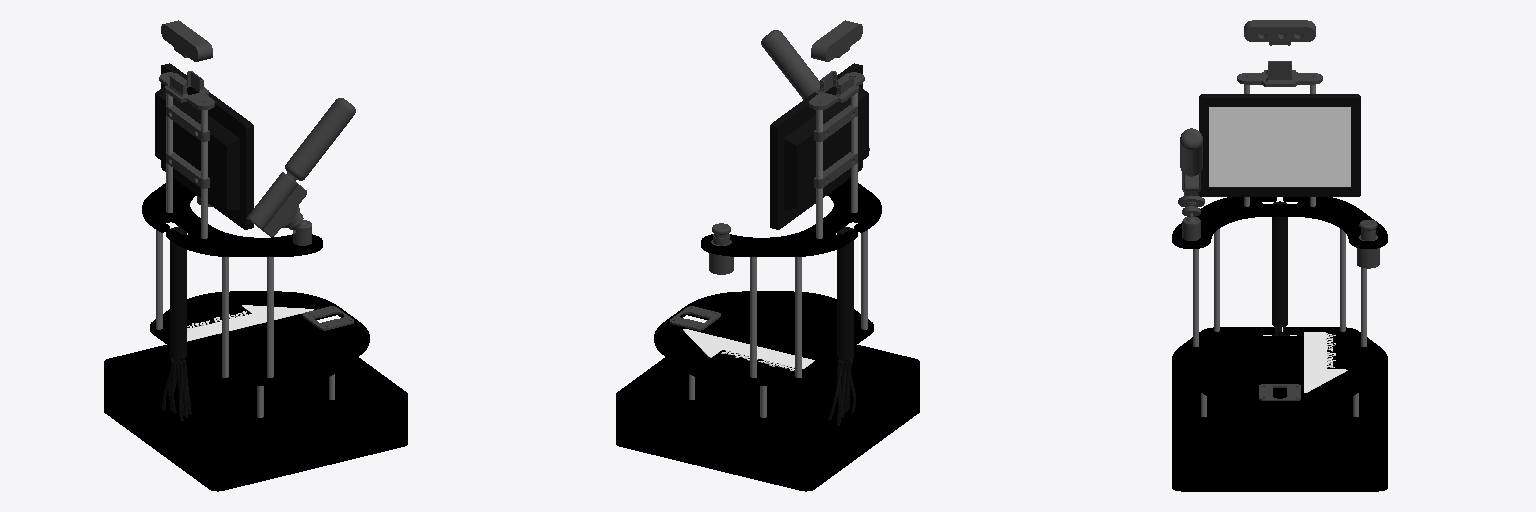
--- Facts derived from the render (not from the file) ---
The picture shows the robot from 3 angles, left to right: view 1: azimuth 30°, elevation 25°; view 2: azimuth 150°, elevation 25°; view 3: azimuth 270°, elevation 25°; orthographic projection.
Robot: jupiter2_lite — 69 links, 68 joints (7 revolute, 2 continuous, 59 fixed); root link base_footprint; default pose: all joints at 0.
Visible links, largest first — view 1: base_link, plate_1_link, monitor_link, mic_link, plate_3_link, pipe_200_link, arrow_link, camera_link, head_mount_link, cables_link, pole_200_2_link, pole_200_3_link (+4 smaller); view 2: base_link, plate_1_link, monitor_link, plate_3_link, pipe_200_link, mic_link, arrow_link, camera_link, head_mount_link, cables_link, estop_link, pole_200_0_link (+5 smaller); view 3: base_link, plate_1_link, screen_link, monitor_link, plate_3_link, mic_link, pipe_200_link, arrow_link, camera_link, head_mount_link, estop_link, pole_200_1_link (+3 smaller).
Boxes of the visible links, x1,y1,x2,y2 form: base_link: (104, 345, 407, 491); plate_1_link: (150, 291, 369, 385); monitor_link: (155, 63, 253, 229); mic_link: (247, 98, 355, 245); plate_3_link: (142, 178, 322, 256); pipe_200_link: (170, 227, 186, 359); arrow_link: (187, 305, 313, 341); camera_link: (161, 20, 212, 61); head_mount_link: (159, 71, 214, 109); cables_link: (162, 358, 191, 420); pole_200_2_link: (222, 257, 228, 377); pole_200_3_link: (267, 257, 273, 377); base_link: (616, 345, 919, 491); plate_1_link: (654, 291, 873, 385); monitor_link: (770, 63, 868, 229); plate_3_link: (701, 178, 881, 256); pipe_200_link: (837, 227, 853, 359); mic_link: (761, 30, 869, 150); arrow_link: (683, 329, 814, 370); camera_link: (811, 20, 862, 61); head_mount_link: (809, 71, 864, 109); cables_link: (828, 358, 855, 425); estop_link: (709, 223, 733, 274); pole_200_0_link: (750, 257, 756, 377); base_link: (1172, 367, 1387, 491); plate_1_link: (1172, 327, 1387, 406); screen_link: (1209, 107, 1350, 186); monitor_link: (1199, 94, 1360, 196); plate_3_link: (1172, 197, 1387, 248); mic_link: (1178, 128, 1204, 240); pipe_200_link: (1272, 201, 1287, 326); arrow_link: (1304, 332, 1347, 392); camera_link: (1244, 20, 1315, 45); head_mount_link: (1237, 61, 1322, 86); estop_link: (1357, 220, 1379, 268); pole_200_1_link: (1340, 229, 1345, 331).
Size in the robot's own frame: 0.331 by 0.33 by 0.67 metres.
31 mesh visuals loaded from 32 distinct referenced files (19 binary STL); not drawn: 28 (reference not matched to a file when rendering).

URDF robot description (jupiter2_lite):
<?xml version="1.0" ?>
<!-- =================================================================================== -->
<!-- |    This document was autogenerated by xacro from [local-path]/catkin_ws/src/jupiterobot2/jupiterobot2_description/urdf/jupiter2_lite.urdf.xacro | -->
<!-- |    EDITING THIS FILE BY HAND IS NOT RECOMMENDED                                 | -->
<!-- =================================================================================== -->
<robot name="jupiter2_lite">
    <!-- Init colour -->
    <material name="Black">
        <color rgba="0.0 0.0 0.0 1.0" />
    </material>
    <material name="FlatBlack">
        <color rgba="0.1 0.1 0.1 1.0" />
    </material>
    <material name="DarkGrey">
        <color rgba="0.3 0.3 0.3 1.0" />
    </material>
    <material name="Grey">
        <color rgba="0.5 0.5 0.5 1.0" />
    </material>
    <material name="Red">
        <color rgba="0.8 0.0 0.0 1.0" />
    </material>
    <material name="Green">
        <color rgba="0.0 0.8 0.0 1.0" />
    </material>
    <material name="Blue">
        <color rgba="0.0 0.0 0.8 1.0" />
    </material>
    <material name="White">
        <color rgba="1.0 1.0 1.0 1.0" />
    </material>
    <gazebo reference="base_link">
        <material>Gazebo/Black</material>
        <plugin name="gazebo_ros_control">
            <robotNamespace>/</robotNamespace>
        </plugin>
    </gazebo>
    <gazebo reference="wheel_left_link">
        <mu1>1</mu1>
        <mu2>1</mu2>
        <kp>1e6</kp>
        <kd>1e3</kd>
        <minDepth>0.001</minDepth>
        <maxVel>1</maxVel>
        <material>Gazebo/FlatBlack</material>
    </gazebo>
    <gazebo reference="wheel_right_link">
        <mu1>1</mu1>
        <mu2>1</mu2>
        <kp>1e6</kp>
        <kd>1e3</kd>
        <minDepth>0.001</minDepth>
        <maxVel>1</maxVel>
        <material>Gazebo/FlatBlack</material>
    </gazebo>
    <gazebo reference="caster_back_right_link">
        <mu1>0.01</mu1>
        <mu2>0.01</mu2>
        <kp>1e6</kp>
        <kd>1e3</kd>
        <minDepth>0.001</minDepth>
        <maxVel>1</maxVel>
        <material>Gazebo/Grey</material>
    </gazebo>
    <gazebo reference="caster_back_left_link">
        <mu1>0.01</mu1>
        <mu2>0.01</mu2>
        <kp>1e6</kp>
        <kd>1e3</kd>
        <minDepth>0.001</minDepth>
        <maxVel>1</maxVel>
        <material>Gazebo/Grey</material>
    </gazebo>
    <gazebo reference="imu_link">
        <sensor name="imu" type="imu">
            <always_on>true</always_on>
            <visualize>false</visualize>
        </sensor>
        <material>Gazebo/Grey</material>
    </gazebo>
    <gazebo reference="plate_1_link">
        <material>Gazebo/Black</material>
    </gazebo>
    <gazebo reference="plate_2_link">
        <material>Gazebo/Black</material>
    </gazebo>
    <gazebo reference="plate_3_link">
        <material>Gazebo/Black</material>
    </gazebo>
    <gazebo reference="arrow_link">
        <material>Gazebo/White</material>
    </gazebo>
    <gazebo reference="mic_link">
        <material>Gazebo/DarkGrey</material>
    </gazebo>
    <gazebo reference="estop_link">
        <material>Gazebo/DarkGrey</material>
    </gazebo>
    <gazebo reference="monitor_frame_1_link">
        <material>Gazebo/DarkGrey</material>
    </gazebo>
    <gazebo reference="monitor_frame_2_link">
        <material>Gazebo/DarkGrey</material>
    </gazebo>
    <gazebo reference="monitor_link">
        <material>Gazebo/FlatBlack</material>
    </gazebo>
    <gazebo reference="screen_link">
        <material>Gazebo/WhiteGlow</material>
    </gazebo>
    <gazebo reference="arm_mount_link">
        <material>Gazebo/DarkGrey</material>
    </gazebo>
    <gazebo reference="head_mount_link">
        <material>Gazebo/DarkGrey</material>
    </gazebo>
    <gazebo reference="pipe_200_link">
        <material>Gazebo/BlackTransparent</material>
    </gazebo>
    <gazebo reference="pipe_300_link">
        <material>Gazebo/BlackTransparent</material>
    </gazebo>
    <gazebo reference="cables_link">
        <material>Gazebo/BlackTransparent</material>
    </gazebo>
    <gazebo>
        <plugin filename="libgazebo_ros_diff_drive.so" name="jupiter2_controller">
            <commandTopic>cmd_vel</commandTopic>
            <odometryTopic>odom</odometryTopic>
            <odometryFrame>odom</odometryFrame>
            <odometrySource>world</odometrySource>
            <publishOdomTF>true</publishOdomTF>
            <robotBaseFrame>base_footprint</robotBaseFrame>
            <publishWheelTF>false</publishWheelTF>
            <publishTf>true</publishTf>
            <publishWheelJointState>true</publishWheelJointState>
            <legacyMode>false</legacyMode>
            <updateRate>30</updateRate>
            <leftJoint>wheel_left_joint</leftJoint>
            <rightJoint>wheel_right_joint</rightJoint>
            <wheelSeparation>0.287</wheelSeparation>
            <wheelDiameter>0.066</wheelDiameter>
            <wheelAcceleration>1</wheelAcceleration>
            <wheelTorque>10</wheelTorque>
            <rosDebugLevel>na</rosDebugLevel>
        </plugin>
    </gazebo>
    <gazebo>
        <plugin filename="libgazebo_ros_imu.so" name="imu_plugin">
            <alwaysOn>true</alwaysOn>
            <bodyName>imu_link</bodyName>
            <frameName>imu_link</frameName>
            <topicName>imu</topicName>
            <serviceName>imu_service</serviceName>
            <gaussianNoise>0.0</gaussianNoise>
            <updateRate>0</updateRate>
            <imu>
                <noise>
                    <type>gaussian</type>
                    <rate>
                        <mean>0.0</mean>
                        <stddev>2e-4</stddev>
                        <bias_mean>0.0000075</bias_mean>
                        <bias_stddev>0.0000008</bias_stddev>
                    </rate>
                    <accel>
                        <mean>0.0</mean>
                        <stddev>1.7e-2</stddev>
                        <bias_mean>0.1</bias_mean>
                        <bias_stddev>0.001</bias_stddev>
                    </accel>
                </noise>
            </imu>
        </plugin>
    </gazebo>
    <gazebo reference="base_scan">
        <material>Gazebo/FlatBlack</material>
        <sensor name="rplidar_a1_sensor" type="ray">
            <pose>0 0 0 0 0 0</pose>
            <visualize>false</visualize>
            <update_rate>5.5</update_rate>
            <ray>
                <scan>
                    <horizontal>
                        <samples>360</samples>
                        <resolution>1</resolution>
                        <min_angle>-3.14159265359</min_angle>
                        <max_angle>3.14159265359</max_angle>
                    </horizontal>
                </scan>
                <range>
                    <min>0.18</min>
                    <max>6.0</max>
                    <resolution>0.01</resolution>
                </range>
                <noise>
                    <type>gaussian</type>
                    <mean>0.0</mean>
                    <stddev>0.01</stddev>
                </noise>
            </ray>
            <plugin filename="libgazebo_ros_laser.so" name="gazebo_ros_rplidar_a1_controller">
                <topicName>scan</topicName>
                <frameName>base_scan</frameName>
            </plugin>
        </sensor>
    </gazebo>
    <gazebo reference="camera_link">
        <sensor name="camera" type="depth">
            <always_on>true</always_on>
            <visualize>false</visualize>
            <update_rate>20.0</update_rate>
            <camera>
                <horizontal_fov>1.0472</horizontal_fov>
                <image>
                    <width>640</width>
                    <height>480</height>
                    <format>R8G8B8</format>
                </image>
                <depth_camera />
                <clip>
                    <near>0.05</near>
                    <far>8.0</far>
                </clip>
            </camera>
            <plugin filename="libgazebo_ros_openni_kinect.so" name="camera_controller">
                <baseline>0.1</baseline>
                <alwaysOn>true</alwaysOn>
                <updateRate>20.0</updateRate>
                <cameraName>camera</cameraName>
                <frameName>camera_depth_optical_frame</frameName>
                <imageTopicName>color/image_raw</imageTopicName>
                <depthImageTopicName>depth/image_raw</depthImageTopicName>
                <pointCloudTopicName>depth/points</pointCloudTopicName>
                <cameraInfoTopicName>color/camera_info</cameraInfoTopicName>
                <depthImageCameraInfoTopicName>depth/camera_info</depthImageCameraInfoTopicName>
                <pointCloudCutoff>0.4</pointCloudCutoff>
                <hackBaseline>0.07</hackBaseline>
                <distortionK1>0.0</distortionK1>
                <distortionK2>0.0</distortionK2>
                <distortionK3>0.0</distortionK3>
                <distortionT1>0.0</distortionT1>
                <distortionT2>0.0</distortionT2>
                <CxPrime>0.0</CxPrime>
                <Cx>0.0</Cx>
                <Cy>0.0</Cy>
                <focalLength>0</focalLength>
                <hackBaseline>0</hackBaseline>
            </plugin>
        </sensor>
    </gazebo>
    <joint name="head_base_joint" type="fixed">
        <origin xyz="0.0 0.0 0.076" />
        <parent link="head_mount_link" />
        <child link="head_base_link" />
    </joint>
    <link name="head_base_link" />
    <joint name="head_servo_joint" type="fixed">
        <origin rpy="0 0 0" xyz="0 0 -0.041499999999999995" />
        <parent link="head_base_link" />
        <child link="head_servo_link" />
    </joint>
    <link name="head_servo_link">
        <visual>
            <origin rpy="0 0 0" xyz="0 0 0" />
            <geometry>
                <mesh filename="package://jupiterobot2_head_description/meshes/ax12_box.stl" scale="0.001 0.001 0.001" />
            </geometry>
            <material name="Black" />
        </visual>
        <collision>
            <origin rpy="0 0 0" xyz="0.0 0.0 -0.01241" />
            <geometry>
                <box size="0.025 0.038 0.04762" />
            </geometry>
        </collision>
        <inertial>
            <origin xyz="0 0 0" rpy="0 0 0" />
            <mass value="0.055" />
            <inertia ixx="0.000017012" ixy="0.0" ixz="0.0" iyy="0.000013258" iyz="0.0" izz="0.000009483" />
        </inertial>
    </link>
    <gazebo reference="head_servo_link">
        <material>Gazebo/Black</material>
        <selfCollide>true</selfCollide>
        <gravity>true</gravity>
    </gazebo>
    <joint name="head_joint" type="revolute">
        <origin rpy="0 0 0" xyz="0 0 0" />
        <axis xyz="0 1 0" />
        <limit effort="30" lower="-1.5" upper="1.5" velocity="1.571" />
        <dynamics friction="0.13" />
        <parent link="head_servo_link" />
        <child link="head_link" />
    </joint>
    <link name="head_link">
        <visual>
            <origin rpy="0 0 0" xyz="0 0 0" />
            <geometry>
                <mesh filename="package://jupiterobot2_head_description/meshes/F2.stl" scale="0.001 0.001 0.001" />
            </geometry>
            <material name="White" />
        </visual>
        <collision>
            <origin rpy="0 0 0" xyz="0.0 0.0 0.00775" />
            <geometry>
                <box size="0.025 0.0485 0.0375" />
            </geometry>
        </collision>
        <inertial>
            <origin xyz="0 0 0.015" rpy="0 0 0" />
            <!--0.025*0.048*0.0375-->
            <mass value="0.0115" />
            <inertia ixx="3.55565625e-06" ixy="0.0" ixz="0.0" iyy="1.946614583e-06" iyz="0.0" izz="2.80695833e-06" />
        </inertial>
    </link>
    <gazebo reference="head_link">
        <material>Gazebo/White</material>
        <selfCollide>true</selfCollide>
        <gravity>true</gravity>
    </gazebo>
    <joint name="head_plate_joint" type="fixed">
        <origin rpy="0 3.14159265359 0" xyz="0 0 0.0265" />
        <parent link="head_link" />
        <child link="head_plate_link" />
    </joint>
    <link name="head_plate_link">
        <visual>
            <origin rpy="0 0 0" xyz="0 0 0" />
            <geometry>
                <mesh filename="package://jupiterobot2_head_description/meshes/F3.stl" scale="0.001 0.001 0.001" />
            </geometry>
            <material name="White" />
        </visual>
        <collision>
            <origin rpy="0 0 0" xyz="0.0 0.0 -0.0045" />
            <geometry>
                <box size="0.025 0.038 0.009" />
            </geometry>
        </collision>
        <inertial>
            <origin xyz="0 0 -0.004" rpy="0 0 0" />
            <!--0.025*0.038*0.008-->
            <mass value="0.005" />
            <inertia ixx="6.2833e-07" ixy="0.0" ixz="0.0" iyy="2.870833e-07" iyz="0.0" izz="8.620833e-07" />
        </inertial>
    </link>
    <gazebo reference="head_plate_link">
        <material>Gazebo/White</material>
        <selfCollide>true</selfCollide>
        <gravity>true</gravity>
    </gazebo>
    <joint name="camera_joint" type="fixed">
        <origin rpy="0 3.14159265359 0" xyz="-0.0125 0 -0.0215" />
        <parent link="head_plate_link" />
        <child link="camera_link" />
    </joint>
    <link name="camera_link">
        <visual>
            <origin rpy="0 0 0" xyz="0 0 0" />
            <geometry>
                <mesh filename="package://jupiterobot2_head_description/meshes/camera.stl" scale="0.001 0.001 0.001" />
            </geometry>
            <material name="DarkGrey" />
        </visual>
        <collision>
            <origin rpy="0 0 0" xyz="-0.0125 0 0" />
            <geometry>
                <box size="0.025 0.109 0.025" />
            </geometry>
        </collision>
        <inertial>
            <origin rpy="0 0 0" xyz="-0.0125 0 0" />
            <mass value="0.06" />
            <inertia ixx="6.253e-05" ixy="0.0" ixz="0.0" iyy="6.25e-06" iyz="0.0" izz="6.253e-05" />
        </inertial>
    </link>
    <gazebo reference="camera_link">
        <material>Gazebo/DarkGrey</material>
        <selfCollide>true</selfCollide>
        <gravity>true</gravity>
    </gazebo>
    <joint name="camera_color_joint" type="fixed">
        <origin rpy="0 0 0" xyz="0.0 -0.009 0.0" />
        <parent link="camera_link" />
        <child link="camera_color_frame" />
    </joint>
    <link name="camera_color_frame" />
    <joint name="camera_color_optical_joint" type="fixed">
        <origin rpy="-1.570796326795 0 -1.570796326795" xyz="0 0 0" />
        <parent link="camera_color_frame" />
        <child link="camera_color_optical_frame" />
    </joint>
    <link name="camera_color_optical_frame" />
    <joint name="camera_depth_joint" type="fixed">
        <origin rpy="0 0 0" xyz="0.0 -0.008 0.0" />
        <parent link="camera_link" />
        <child link="camera_depth_frame" />
    </joint>
    <link name="camera_depth_frame" />
    <joint name="camera_depth_optical_joint" type="fixed">
        <origin rpy="-1.570796326795 0 -1.570796326795" xyz="0 0 0" />
        <parent link="camera_depth_frame" />
        <child link="camera_depth_optical_frame" />
    </joint>
    <link name="camera_depth_optical_frame" />
    <transmission name="tran6">
        <type>transmission_interface/SimpleTransmission</type>
        <joint name="head_joint">
            <hardwareInterface>hardware_interface/PositionJointInterface</hardwareInterface>
        </joint>
        <actuator name="motor6">
            <hardwareInterface>hardware_interface/PositionJointInterface</hardwareInterface>
            <mechanicalReduction>1</mechanicalReduction>
        </actuator>
    </transmission>
    <!-- ros_control plugin -->
    <!-- <gazebo>
    <plugin name="gazebo_ros_control" filename="libgazebo_ros_control.so">
      <controlPeriod>0.001</controlPeriod>
      <robotNamespace>/</robotNamespace>
      <robotSimType>gazebo_ros_control/DefaultRobotHWSim</robotSimType>
      <legacyModeNS>true</legacyModeNS>
    </plugin>
  </gazebo> -->
    <!-- As we don't have here a robot base, add a base_link link as its location reference -->
    <!--link name="arm_mount_link"/-->
    <link name="arm_base_link" />
    <joint name="arm_base_joint" type="fixed">
        <origin xyz="0.0 0.0 -0.015" />
        <parent link="arm_mount_link" />
        <child link="arm_base_link" />
    </joint>
    <joint name="arm1_servo_joint" type="fixed">
        <origin rpy="1.570796326795 0 1.570796326795" xyz="0 0 0" />
        <parent link="arm_base_link" />
        <child link="arm1_servo_link" />
    </joint>
    <link name="arm1_servo_link">
        <visual>
            <origin rpy="0 0 0" xyz="0 0 0" />
            <geometry>
                <mesh filename="package://jupiterobot2_arm_description/meshes/ax12_box.stl" scale="0.001 0.001 0.001" />
            </geometry>
            <material name="Black" />
        </visual>
        <collision>
            <origin rpy="0 0 0" xyz="0.0 0.0 -0.01241" />
            <geometry>
                <box size="0.025 0.038 0.04762" />
            </geometry>
        </collision>
        <inertial>
            <origin xyz="0 0 0" rpy="0 0 0" />
            <mass value="0.055" />
            <inertia ixx="0.000017012" ixy="0.0" ixz="0.0" iyy="0.000013258" iyz="0.0" izz="0.000009483" />
        </inertial>
    </link>
    <gazebo reference="arm1_servo_link">
        <material>Gazebo/Black</material>
        <selfCollide>true</selfCollide>
        <gravity>true</gravity>
    </gazebo>
    <joint name="arm1_joint" type="revolute">
        <origin rpy="-1.570796326795 1.570796326795 3.14159265359" xyz="0 0.019 0" />
        <axis xyz="0 0 -1" />
        <limit effort="30" lower="-2.617" upper="2.617" velocity="1.571" />
        <dynamics friction="0.13" />
        <parent link="arm1_servo_link" />
        <child link="arm1_link" />
    </joint>
    <link name="arm1_link">
        <visual>
            <origin rpy="0 0 0" xyz="0 0 0" />
            <geometry>
                <mesh filename="package://jupiterobot2_arm_description/meshes/F3.stl" scale="0.001 0.001 0.001" />
            </geometry>
            <material name="White" />
        </visual>
        <collision>
            <origin rpy="0 0 0" xyz="0.0 0.0 -0.0045" />
            <geometry>
                <box size="0.025 0.038 0.009" />
            </geometry>
        </collision>
        <inertial>
            <origin xyz="0 0 -0.004" rpy="0 0 0" />
            <!--0.025*0.038*0.008-->
            <mass value="0.005" />
            <inertia ixx="6.2833e-07" ixy="0.0" ixz="0.0" iyy="2.870833e-07" iyz="0.0" izz="8.620833e-07" />
        </inertial>
    </link>
    <gazebo reference="arm1_link">
        <material>Gazebo/White</material>
        <selfCollide>true</selfCollide>
        <gravity>true</gravity>
    </gazebo>
    <joint name="arm2_servo_joint" type="fixed">
        <origin rpy="0 3.14159265359 0" xyz="0 0 -0.041499999999999995" />
        <parent link="arm1_link" />
        <child link="arm2_servo_link" />
    </joint>
    <link name="arm2_servo_link">
        <visual>
            <origin rpy="0 0 0" xyz="0 0 0" />
            <geometry>
                <mesh filename="package://jupiterobot2_arm_description/meshes/ax12_box.stl" scale="0.001 0.001 0.001" />
            </geometry>
            <material name="Black" />
        </visual>
        <collision>
            <origin rpy="0 0 0" xyz="0.0 0.0 -0.01241" />
            <geometry>
                <box size="0.025 0.038 0.04762" />
            </geometry>
        </collision>
        <inertial>
            <origin xyz="0 0 0" rpy="0 0 0" />
            <mass value="0.055" />
            <inertia ixx="0.000017012" ixy="0.0" ixz="0.0" iyy="0.000013258" iyz="0.0" izz="0.000009483" />
        </inertial>
    </link>
    <gazebo reference="arm2_servo_link">
        <material>Gazebo/Black</material>
        <selfCollide>true</selfCollide>
        <gravity>true</gravity>
    </gazebo>
    <joint name="arm2_joint" type="revolute">
        <origin rpy="0 0 0" xyz="0 0 0" />
        <axis xyz="0 1 0" />
        <limit effort="30" lower="-2.617" upper="2.617" velocity="1.571" />
        <dynamics friction="0.13" />
        <parent link="arm2_servo_link" />
        <child link="arm2_link" />
    </joint>
    <link name="arm2_link">
        <visual>
            <origin rpy="0 0 0" xyz="0 0 0" />
            <geometry>
                <mesh filename="package://jupiterobot2_arm_description/meshes/F4.stl" scale="0.001 0.001 0.001" />
            </geometry>
            <material name="White" />
        </visual>
        <collision>
            <origin rpy="0 0 0" xyz="0.0 0.0 0.0215" />
            <geometry>
                <box size="0.028 0.0485 0.065" />
            </geometry>
        </collision>
        <inertial>
            <origin xyz="0 0 0.03" rpy="0 0 0" />
            <!--0.028*0.048*0.0635-->
            <mass value="0.019" />
            <inertia ixx="1.003239583e-05" ixy="0.0" ixz="0.0" iyy="7.625729167e-06" iyz="0.0" izz="4.88933e-06" />
        </inertial>
    </link>
    <gazebo reference="arm2_link">
        <material>Gazebo/White</material>
        <selfCollide>true</selfCollide>
        <gravity>true</gravity>
    </gazebo>
    <joint name="arm2_F10_1_joint" type="fixed">
        <origin rpy="0 0 0" xyz="0 0 0.0545" />
        <parent link="arm2_link" />
        <child link="arm2_F10_1_link" />
    </joint>
    <link name="arm2_F10_1_link">
        <visual>
            <origin rpy="0 0 0" xyz="0 0 0" />
            <geometry>
                <mesh filename="package://jupiterobot2_arm_description/meshes/F10.stl" scale="0.001 0.001 0.001" />
            </geometry>
            <material name="White" />
        </visual>
        <collision>
            <origin rpy="0 0 0" xyz="0.0 0.0 0.0" />
            <geometry>
                <box size="0.025 0.038 0.004" />
            </geometry>
        </collision>
        <inertial>
            <origin xyz="0 0 0" rpy="0 0 0" />
            <!--0.025*0.038*0.004-->
            <mass value="0.0033" />
            <inertia ixx="4.015e-07" ixy="0.0" ixz="0.0" iyy="1.76275e-07" iyz="0.0" izz="5.68975e-07" />
        </inertial>
    </link>
    <gazebo reference="arm2_F10_1_link">
        <material>Gazebo/White</material>
        <selfCollide>true</selfCollide>
        <gravity>true</gravity>
    </gazebo>
    <joint name="arm2_F10_2_joint" type="fixed">
        <origin rpy="0 0 0" xyz="0 0 0.004" />
        <parent link="arm2_F10_1_link" />
        <child link="arm2_F10_2_link" />
    </joint>
    <link name="arm2_F10_2_link">
        <visual>
            <origin rpy="0 0 0" xyz="0 0 0" />
            <geometry>
                <mesh filename="package://jupiterobot2_arm_description/meshes/F10.stl" scale="0.001 0.001 0.001" />
            </geometry>
            <material name="White" />
        </visual>
        <collision>
            <origin rpy="0 0 0" xyz="0.0 0.0 0.0" />
            <geometry>
                <box size="0.025 0.038 0.004" />
            </geometry>
        </collision>
        <inertial>
            <origin xyz="0 0 0" rpy="0 0 0" />
            <!--0.025*0.038*0.004-->
            <mass value="0.0033" />
            <inertia ixx="4.015e-07" ixy="0.0" ixz="0.0" iyy="1.76275e-07" iyz="0.0" izz="5.68975e-07" />
        </inertial>
    </link>
    <gazebo reference="arm2_F10_2_link">
        <material>Gazebo/White</material>
        <selfCollide>true</selfCollide>
        <gravity>true</gravity>
    </gazebo>
    <joint name="arm2_F10_3_joint" type="fixed">
        <origin rpy="0 0 0" xyz="0 0 0.004" />
        <parent link="arm2_F10_2_link" />
        <child link="arm2_F10_3_link" />
    </joint>
    <link name="arm2_F10_3_link">
        <visual>
            <origin rpy="0 0 0" xyz="0 0 0" />
            <geometry>
                <mesh filename="package://jupiterobot2_arm_description/meshes/F10.stl" scale="0.001 0.001 0.001" />
            </geometry>
            <material name="White" />
        </visual>
        <collision>
            <origin rpy="0 0 0" xyz="0.0 0.0 0.0" />
            <geometry>
                <box size="0.025 0.038 0.004" />
            </geometry>
        </collision>
        <inertial>
            <origin xyz="0 0 0" rpy="0 0 0" />
            <!--0.025*0.038*0.004-->
            <mass value="0.0033" />
            <inertia ixx="4.015e-07" ixy="0.0" ixz="0.0" iyy="1.76275e-07" iyz="0.0" izz="5.68975e-07" />
        </inertial>
    </link>
    <gazebo reference="arm2_F10_3_link">
        <material>Gazebo/White</material>
        <selfCollide>true</selfCollide>
        <gravity>true</gravity>
    </gazebo>
    <joint name="arm2_F3_joint" type="fixed">
        <origin rpy="0 3.14159265359 0" xyz="0 0 0.002" />
        <parent link="arm2_F10_3_link" />
        <child link="arm2_F3_link" />
    </joint>
    <link name="arm2_F3_link">
        <visual>
            <origin rpy="0 0 0" xyz="0 0 0" />
            <geometry>
                <mesh filename="package://jupiterobot2_arm_description/meshes/F3.stl" scale="0.001 0.001 0.001" />
            </geometry>
            <material name="White" />
        </visual>
        <collision>
            <origin rpy="0 0 0" xyz="0.0 0.0 -0.0045" />
            <geometry>
                <box size="0.025 0.038 0.009" />
            </geometry>
        </collision>
        <inertial>
            <origin xyz="0 0 -0.004" rpy="0 0 0" />
            <!--0.025*0.038*0.008-->
            <mass value="0.005" />
            <inertia ixx="6.2833e-07" ixy="0.0" ixz="0.0" iyy="2.870833e-07" iyz="0.0" izz="8.620833e-07" />
        </inertial>
    </link>
    <gazebo reference="arm2_F3_link">
        <material>Gazebo/White</material>
        <selfCollide>true</selfCollide>
        <gravity>true</gravity>
    </gazebo>
    <joint name="arm3_servo_joint" type="fixed">
        <origin rpy="0 3.14159265359 0" xyz="0 0 -0.041499999999999995" />
        <parent link="arm2_F3_link" />
        <child link="arm3_servo_link" />
    </joint>
    <link name="arm3_servo_link">
        <visual>
            <origin rpy="0 0 0" xyz="0 0 0" />
            <geometry>
                <mesh filename="package://jupiterobot2_arm_description/meshes/ax12_box.stl" scale="0.001 0.001 0.001" />
            </geometry>
            <material name="Black" />
        </visual>
        <collision>
            <origin rpy="0 0 0" xyz="0.0 0.0 -0.01241" />
            <geometry>
                <box size="0.025 0.038 0.04762" />
            </geometry>
        </collision>
        <inertial>
            <origin xyz="0 0 0" rpy="0 0 0" />
            <mass value="0.055" />
            <inertia ixx="0.000017012" ixy="0.0" ixz="0.0" iyy="0.000013258" iyz="0.0" izz="0.000009483" />
        </inertial>
    </link>
    <gazebo reference="arm3_servo_link">
        <material>Gazebo/Black</material>
        <selfCollide>true</selfCollide>
        <gravity>true</gravity>
    </gazebo>
    <joint name="arm3_joint" type="revolute">
        <origin rpy="0 0 0" xyz="0 0 0" />
        <axis xyz="0 1 0" />
        <limit effort="30" lower="-2.617" upper="2.617" velocity="1.571" />
        <dynamics friction="0.13" />
        <parent link="arm3_servo_link" />
        <child link="arm3_link" />
    </joint>
    <link name="arm3_link">
        <visual>
            <origin rpy="0 0 0" xyz="0 0 0" />
            <geometry>
                <mesh filename="package://jupiterobot2_arm_description/meshes/F4.stl" scale="0.001 0.001 0.001" />
            </geometry>
            <material name="White" />
        </visual>
        <collision>
            <origin rpy="0 0 0" xyz="0.0 0.0 0.0215" />
            <geometry>
                <box size="0.028 0.0485 0.065" />
            </geometry>
        </collision>
        <inertial>
            <origin xyz="0 0 0.03" rpy="0 0 0" />
            <!--0.028*0.048*0.0635-->
            <mass value="0.019" />
            <inertia ixx="1.003239583e-05" ixy="0.0" ixz="0.0" iyy="7.625729167e-06" iyz="0.0" izz="4.88933e-06" />
        </inertial>
    </link>
    <gazebo reference="arm3_link">
        <material>Gazebo/White</material>
        <selfCollide>true</selfCollide>
        <gravity>true</gravity>
    </gazebo>
    <joint name="arm3_F10_1_joint" type="fixed">
        <origin rpy="0 0 0" xyz="0 0 0.0545" />
        <parent link="arm3_link" />
        <child link="arm3_F10_1_link" />
    </joint>
    <link name="arm3_F10_1_link">
        <visual>
            <origin rpy="0 0 0" xyz="0 0 0" />
            <geometry>
                <mesh filename="package://jupiterobot2_arm_description/meshes/F10.stl" scale="0.001 0.001 0.001" />
            </geometry>
            <material name="White" />
        </visual>
        <collision>
            <origin rpy="0 0 0" xyz="0.0 0.0 0.0" />
            <geometry>
                <box size="0.025 0.038 0.004" />
            </geometry>
        </collision>
        <inertial>
            <origin xyz="0 0 0" rpy="0 0 0" />
            <!--0.025*0.038*0.004-->
            <mass value="0.0033" />
            <inertia ixx="4.015e-07" ixy="0.0" ixz="0.0" iyy="1.76275e-07" iyz="0.0" izz="5.68975e-07" />
        </inertial>
    </link>
    <gazebo reference="arm3_F10_1_link">
        <material>Gazebo/White</material>
        <selfCollide>true</selfCollide>
        <gravity>true</gravity>
    </gazebo>
    <joint name="arm3_F10_2_joint" type="fixed">
        <origin rpy="0 0 0" xyz="0 0 0.004" />
        <parent link="arm3_F10_1_link" />
        <child link="arm3_F10_2_link" />
    </joint>
    <link name="arm3_F10_2_link">
        <visual>
            <origin rpy="0 0 0" xyz="0 0 0" />
            <geometry>
                <mesh filename="package://jupiterobot2_arm_description/meshes/F10.stl" scale="0.001 0.001 0.001" />
            </geometry>
            <material name="White" />
        </visual>
        <collision>
            <origin rpy="0 0 0" xyz="0.0 0.0 0.0" />
            <geometry>
                <box size="0.025 0.038 0.004" />
            </geometry>
        </collision>
        <inertial>
            <origin xyz="0 0 0" rpy="0 0 0" />
            <!--0.025*0.038*0.004-->
            <mass value="0.0033" />
            <inertia ixx="4.015e-07" ixy="0.0" ixz="0.0" iyy="1.76275e-07" iyz="0.0" izz="5.68975e-07" />
        </inertial>
    </link>
    <gazebo reference="arm3_F10_2_link">
        <material>Gazebo/White</material>
        <selfCollide>true</selfCollide>
        <gravity>true</gravity>
    </gazebo>
    <joint name="arm3_F10_3_joint" type="fixed">
        <origin rpy="0 0 0" xyz="0 0 0.004" />
        <parent link="arm3_F10_2_link" />
        <child link="arm3_F10_3_link" />
    </joint>
    <link name="arm3_F10_3_link">
        <visual>
            <origin rpy="0 0 0" xyz="0 0 0" />
            <geometry>
                <mesh filename="package://jupiterobot2_arm_description/meshes/F10.stl" scale="0.001 0.001 0.001" />
            </geometry>
            <material name="White" />
        </visual>
        <collision>
            <origin rpy="0 0 0" xyz="0.0 0.0 0.0" />
            <geometry>
                <box size="0.025 0.038 0.004" />
            </geometry>
        </collision>
        <inertial>
            <origin xyz="0 0 0" rpy="0 0 0" />
            <!--0.025*0.038*0.004-->
            <mass value="0.0033" />
            <inertia ixx="4.015e-07" ixy="0.0" ixz="0.0" iyy="1.76275e-07" iyz="0.0" izz="5.68975e-07" />
        </inertial>
    </link>
    <gazebo reference="arm3_F10_3_link">
        <material>Gazebo/White</material>
        <selfCollide>true</selfCollide>
        <gravity>true</gravity>
    </gazebo>
    <joint name="arm3_F3_joint" type="fixed">
        <origin rpy="0 3.14159265359 0" xyz="0 0 0.002" />
        <parent link="arm3_F10_3_link" />
        <child link="arm3_F3_link" />
    </joint>
    <link name="arm3_F3_link">
        <visual>
            <origin rpy="0 0 0" xyz="0 0 0" />
            <geometry>
                <mesh filename="package://jupiterobot2_arm_description/meshes/F3.stl" scale="0.001 0.001 0.001" />
            </geometry>
            <material name="White" />
        </visual>
        <collision>
            <origin rpy="0 0 0" xyz="0.0 0.0 -0.0045" />
            <geometry>
                <box size="0.025 0.038 0.009" />
            </geometry>
        </collision>
        <inertial>
            <origin xyz="0 0 -0.004" rpy="0 0 0" />
            <!--0.025*0.038*0.008-->
            <mass value="0.005" />
            <inertia ixx="6.2833e-07" ixy="0.0" ixz="0.0" iyy="2.870833e-07" iyz="0.0" izz="8.620833e-07" />
        </inertial>
    </link>
    <gazebo reference="arm3_F3_link">
        <material>Gazebo/White</material>
        <selfCollide>true</selfCollide>
        <gravity>true</gravity>
    </gazebo>
    <joint name="arm4_servo_joint" type="fixed">
        <origin rpy="0 3.14159265359 0" xyz="0 0 -0.041499999999999995" />
        <parent link="arm3_F3_link" />
        <child link="arm4_servo_link" />
    </joint>
    <link name="arm4_servo_link">
        <visual>
            <origin rpy="0 0 0" xyz="0 0 0" />
            <geometry>
                <mesh filename="package://jupiterobot2_arm_description/meshes/ax12_box.stl" scale="0.001 0.001 0.001" />
            </geometry>
            <material name="Black" />
        </visual>
        <collision>
            <origin rpy="0 0 0" xyz="0.0 0.0 -0.01241" />
            <geometry>
                <box size="0.025 0.038 0.04762" />
            </geometry>
        </collision>
        <inertial>
            <origin xyz="0 0 0" rpy="0 0 0" />
            <mass value="0.055" />
            <inertia ixx="0.000017012" ixy="0.0" ixz="0.0" iyy="0.000013258" iyz="0.0" izz="0.000009483" />
        </inertial>
    </link>
    <gazebo reference="arm4_servo_link">
        <material>Gazebo/Black</material>
        <selfCollide>true</selfCollide>
        <gravity>true</gravity>
    </gazebo>
    <joint name="arm4_joint" type="revolute">
        <origin rpy="0 0 0" xyz="0 0 0" />
        <axis xyz="0 1 0" />
        <limit effort="30" lower="-1.745" upper="1.745" velocity="1.571" />
        <dynamics friction="0.13" />
        <parent link="arm4_servo_link" />
        <child link="arm4_link" />
    </joint>
    <link name="arm4_link">
        <visual>
            <origin rpy="0 0 0" xyz="0 0 0" />
            <geometry>
                <mesh filename="package://jupiterobot2_arm_description/meshes/F2.stl" scale="0.001 0.001 0.001" />
            </geometry>
            <material name="White" />
        </visual>
        <collision>
            <origin rpy="0 0 0" xyz="0.0 0.0 0.00775" />
            <geometry>
                <box size="0.025 0.0485 0.0375" />
            </geometry>
        </collision>
        <inertial>
            <origin xyz="0 0 0.015" rpy="0 0 0" />
            <!--0.025*0.048*0.0375-->
            <mass value="0.0115" />
            <inertia ixx="3.55565625e-06" ixy="0.0" ixz="0.0" iyy="1.946614583e-06" iyz="0.0" izz="2.80695833e-06" />
        </inertial>
    </link>
    <gazebo reference="arm4_link">
        <material>Gazebo/White</material>
        <selfCollide>true</selfCollide>
        <gravity>true</gravity>
    </gazebo>
    <!-- fake gripper_link joint gives us a free servo!
         this makes us 5DOF and saves you $44.90
         that's a lot of coin! -->
    <link name="gripper_link" />
    <joint name="gripper_link_joint" type="revolute">
        <origin rpy="0 -1.57 0" xyz="0 0 0.112" />
        <parent link="arm4_link" />
        <child link="gripper_link" />
        <limit effort="30" lower="-3.14" upper="3.14" velocity="1" />
        <axis xyz="1 0 0" />
    </joint>
    <joint name="arm4_F3_joint" type="fixed">
        <origin rpy="0 3.14159265359 -1.570796326795" xyz="0 0.016 0.0265" />
        <parent link="arm4_link" />
        <child link="arm4_F3_link" />
    </joint>
    <link name="arm4_F3_link">
        <visual>
            <origin rpy="0 0 0" xyz="0 0 0" />
            <geometry>
                <mesh filename="package://jupiterobot2_arm_description/meshes/F3.stl" scale="0.001 0.001 0.001" />
            </geometry>
            <material name="White" />
        </visual>
        <collision>
            <origin rpy="0 0 0" xyz="0.0 0.0 -0.0045" />
            <geometry>
                <box size="0.025 0.038 0.009" />
            </geometry>
        </collision>
        <inertial>
            <origin xyz="0 0 -0.004" rpy="0 0 0" />
            <!--0.025*0.038*0.008-->
            <mass value="0.005" />
            <inertia ixx="6.2833e-07" ixy="0.0" ixz="0.0" iyy="2.870833e-07" iyz="0.0" izz="8.620833e-07" />
        </inertial>
    </link>
    <gazebo reference="arm4_F3_link">
        <material>Gazebo/White</material>
        <selfCollide>true</selfCollide>
        <gravity>true</gravity>
    </gazebo>
    <joint name="gripper_servo_joint" type="fixed">
        <origin rpy="3.14159265359 1.570796326795 0" xyz="-0.02275 0 -0.019" />
        <parent link="arm4_F3_link" />
        <child link="gripper_servo_link" />
    </joint>
    <link name="gripper_servo_link">
        <visual>
            <origin rpy="0 0 0" xyz="0 0 0" />
            <geometry>
                <mesh filename="package://jupiterobot2_arm_description/meshes/ax12_box.stl" scale="0.001 0.001 0.001" />
            </geometry>
            <material name="Black" />
        </visual>
        <collision>
            <origin rpy="0 0 0" xyz="0.0 0.0 -0.01241" />
            <geometry>
                <box size="0.025 0.038 0.04762" />
            </geometry>
        </collision>
        <inertial>
            <origin xyz="0 0 0" rpy="0 0 0" />
            <mass value="0.055" />
            <inertia ixx="0.000017012" ixy="0.0" ixz="0.0" iyy="0.000013258" iyz="0.0" izz="0.000009483" />
        </inertial>
    </link>
    <gazebo reference="gripper_servo_link">
        <material>Gazebo/Black</material>
        <selfCollide>true</selfCollide>
        <gravity>true</gravity>
    </gazebo>
    <!-- finger 1 -->
    <joint name="gripper_joint" type="revolute">
        <origin rpy="0 0 0" xyz="0 0 0" />
        <axis xyz="0 1 0" />
        <limit effort="30" lower="-0.40" upper="0.46" velocity="0.785" />
        <parent link="gripper_servo_link" />
        <child link="gripper_active_link" />
    </joint>
    <link name="gripper_active_link">
        <inertial>
            <mass value="0.010" />
            <origin xyz="0 0 0" rpy="0 0 0" />
            <inertia ixx="0.000001" ixy="0.0" ixz="0.0" iyy="0.000001" iyz="0.0" izz="0.000001" />
        </inertial>
        <visual>
            <origin rpy="0 0 0" xyz="0 0 0" />
            <geometry>
                <mesh filename="package://jupiterobot2_arm_description/meshes/F2.stl" scale="0.001 0.001 0.001" />
            </geometry>
            <material name="White" />
        </visual>
        <collision>
            <origin rpy="0 0 0" xyz="0.0 0.0 0.00775" />
            <geometry>
                <box size="0.025 0.0485 0.0375" />
            </geometry>
        </collision>
    </link>
    <joint name="gripper_active_finger_joint" type="fixed">
        <origin rpy="3.14159265359 0 0" xyz="-0.013 0.017 0.0295" />
        <parent link="gripper_active_link" />
        <child link="gripper_active_finger_link" />
    </joint>
    <link name="gripper_active_finger_link">
        <visual>
            <origin rpy="0 0 0" xyz="0 0 0" />
            <geometry>
                <mesh filename="package://jupiterobot2_arm_description/meshes/finger_active.stl" scale="0.001 0.001 0.001" />
            </geometry>
            <material name="Black" />
        </visual>
        <collision>
            <origin rpy="0 0 0" xyz="0.0535 0.017 0.0105" />
            <geometry>
                <box size="0.107 0.034 0.021" />
            </geometry>
        </collision>
        <inertial>
            <origin rpy="0 0 0" xyz="0.0535 0.017 0.0105" />
            <mass value="0.009" />
            <inertia ixx="1.19775e-06" ixy="0" ixz="0" iyy="8.9175e-06" iyz="0" izz="9.45375e-06" />
        </inertial>
    </link>
    <gazebo reference="gripper_active_finger_link">
        <material>Gazebo/Black</material>
        <selfCollide>true</selfCollide>
        <gravity>true</gravity>
    </gazebo>
    <joint name="gripper_static_joint" type="fixed">
        <origin rpy="0 3.14159265359 0" xyz="0 0 -0.041499999999999995" />
        <parent link="gripper_servo_link" />
        <child link="gripper_static_link" />
    </joint>
    <link name="gripper_static_link">
        <visual>
            <origin rpy="0 0 0" xyz="0 0 0" />
            <geometry>
                <mesh filename="package://jupiterobot2_arm_description/meshes/F3.stl" scale="0.001 0.001 0.001" />
            </geometry>
            <material name="White" />
        </visual>
        <collision>
            <origin rpy="0 0 0" xyz="0.0 0.0 -0.0045" />
            <geometry>
                <box size="0.025 0.038 0.009" />
            </geometry>
        </collision>
        <inertial>
            <origin xyz="0 0 -0.004" rpy="0 0 0" />
            <!--0.025*0.038*0.008-->
            <mass value="0.005" />
            <inertia ixx="6.2833e-07" ixy="0.0" ixz="0.0" iyy="2.870833e-07" iyz="0.0" izz="8.620833e-07" />
        </inertial>
    </link>
    <gazebo reference="gripper_static_link">
        <material>Gazebo/White</material>
        <selfCollide>true</selfCollide>
        <gravity>true</gravity>
    </gazebo>
    <joint name="gripper_static_finger_joint" type="fixed">
        <origin rpy="0 0 3.14159265359" xyz="0.013 0.017 0" />
        <parent link="gripper_static_link" />
        <child link="gripper_static_finger_link" />
    </joint>
    <link name="gripper_static_finger_link">
        <visual>
            <origin rpy="0 0 0" xyz="0 0 0" />
            <geometry>
                <mesh filename="package://jupiterobot2_arm_description/meshes/finger_static.stl" scale="0.001 0.001 0.001" />
            </geometry>
            <material name="Black" />
        </visual>
        <collision>
            <origin rpy="0 0 0" xyz="0.045 0.017 0.0065" />
            <geometry>
                <box size="0.09 0.034 0.013" />
            </geometry>
        </collision>
        <inertial>
            <origin rpy="0 0 0" xyz="0.045 0.017 0.0065" />
            <mass value="0.0075" />
            <inertia ixx="8.28125e-07" ixy="0" ixz="0" iyy="5.168125e-06" iyz="0" izz="5.785e-06" />
        </inertial>
    </link>
    <gazebo reference="gripper_static_finger_link">
        <material>Gazebo/Black</material>
        <selfCollide>true</selfCollide>
        <gravity>true</gravity>
    </gazebo>
    <transmission name="tran1">
        <type>transmission_interface/SimpleTransmission</type>
        <joint name="arm1_joint">
            <hardwareInterface>hardware_interface/PositionJointInterface</hardwareInterface>
        </joint>
        <actuator name="motor1">
            <hardwareInterface>hardware_interface/PositionJointInterface</hardwareInterface>
            <mechanicalReduction>1</mechanicalReduction>
        </actuator>
    </transmission>
    <transmission name="tran2">
        <type>transmission_interface/SimpleTransmission</type>
        <joint name="arm2_joint">
            <hardwareInterface>hardware_interface/PositionJointInterface</hardwareInterface>
        </joint>
        <actuator name="motor2">
            <hardwareInterface>hardware_interface/PositionJointInterface</hardwareInterface>
            <mechanicalReduction>1</mechanicalReduction>
        </actuator>
    </transmission>
    <transmission name="tran3">
        <type>transmission_interface/SimpleTransmission</type>
        <joint name="arm3_joint">
            <hardwareInterface>hardware_interface/PositionJointInterface</hardwareInterface>
        </joint>
        <actuator name="motor3">
            <hardwareInterface>hardware_interface/PositionJointInterface</hardwareInterface>
            <mechanicalReduction>1</mechanicalReduction>
        </actuator>
    </transmission>
    <transmission name="tran4">
        <type>transmission_interface/SimpleTransmission</type>
        <joint name="arm4_joint">
            <hardwareInterface>hardware_interface/PositionJointInterface</hardwareInterface>
        </joint>
        <actuator name="motor4">
            <hardwareInterface>hardware_interface/PositionJointInterface</hardwareInterface>
            <mechanicalReduction>1</mechanicalReduction>
        </actuator>
    </transmission>
    <transmission name="tran5">
        <type>transmission_interface/SimpleTransmission</type>
        <joint name="gripper_joint">
            <hardwareInterface>hardware_interface/PositionJointInterface</hardwareInterface>
        </joint>
        <actuator name="motor5">
            <hardwareInterface>hardware_interface/PositionJointInterface</hardwareInterface>
            <mechanicalReduction>1</mechanicalReduction>
        </actuator>
    </transmission>
    <!-- ros_control plugin -->
    <gazebo>
        <plugin filename="libgazebo_ros_control.so" name="gazebo_ros_control">
            <controlPeriod>0.001</controlPeriod>
            <robotNamespace>/</robotNamespace>
            <robotSimType>gazebo_ros_control/DefaultRobotHWSim</robotSimType>
            <legacyModeNS>true</legacyModeNS>
        </plugin>
    </gazebo>
    <link name="base_footprint" />
    <joint name="base_joint" type="fixed">
        <parent link="base_footprint" />
        <child link="base_link" />
        <origin rpy="0 0 0" xyz="0 0 0.015" />
    </joint>
    <link name="base_link">
        <visual>
            <origin rpy="0 0 0" xyz="-0.089 0 0" />
            <geometry>
                <mesh filename="package://jupiterobot2_description/meshes/stacks/jupiter2_base.stl" scale="0.001 0.001 0.001" />
            </geometry>
            <material name="Black" />
        </visual>
        <collision>
            <origin rpy="0 0 0" xyz="-0.089 0 0.039" />
            <geometry>
                <box size="0.33 0.33 0.078" />
            </geometry>
        </collision>
        <inertial>
            <origin rpy="0 0 0" xyz="-0.089 0 0.039" />
            <mass value="4.6" />
            <inertia ixx="0.0440772" ixy="0" ixz="0" iyy="0.0440772" iyz="0" izz="0.08349" />
        </inertial>
    </link>
    <joint name="wheel_left_joint" type="continuous">
        <parent link="base_link" />
        <child link="wheel_left_link" />
        <origin rpy="-1.570796326795 0 0" xyz="0.0 0.144 0.018" />
        <axis xyz="0 0 1" />
    </joint>
    <link name="wheel_left_link">
        <visual>
            <origin rpy="1.570796326795 0 0" xyz="0 0 0" />
            <geometry>
                <mesh filename="package://jupiterobot2_description/meshes/wheels/left_tire.stl" scale="0.001 0.001 0.001" />
            </geometry>
            <material name="FlatBlack" />
        </visual>
        <collision>
            <origin rpy="0 0 0" xyz="0 0 0" />
            <geometry>
                <cylinder length="0.018" radius="0.033" />
            </geometry>
        </collision>
        <inertial>
            <origin xyz="0 0 0" rpy="0 0 0" />
            <mass value="0.03" />
            <inertia ixx="9e-06" ixy="0.0" ixz="0.0" iyy="9e-06" iyz="0.0" izz="1.64e-05" />
        </inertial>
    </link>
    <joint name="wheel_right_joint" type="continuous">
        <parent link="base_link" />
        <child link="wheel_right_link" />
        <origin rpy="-1.570796326795 0 0" xyz="0.0 -0.144 0.018" />
        <axis xyz="0 0 1" />
    </joint>
    <link name="wheel_right_link">
        <visual>
            <origin rpy="1.570796326795 0 0" xyz="0 0 0" />
            <geometry>
                <mesh filename="package://jupiterobot2_description/meshes/wheels/right_tire.stl" scale="0.001 0.001 0.001" />
            </geometry>
            <material name="FlatBlack" />
        </visual>
        <collision>
            <origin rpy="0 0 0" xyz="0 0 0" />
            <geometry>
                <cylinder length="0.018" radius="0.033" />
            </geometry>
        </collision>
        <inertial>
            <origin xyz="0 0 0" rpy="0 0 0" />
            <mass value="0.03" />
            <inertia ixx="9e-06" ixy="0.0" ixz="0.0" iyy="9e-06" iyz="0.0" izz="1.64e-05" />
        </inertial>
    </link>
    <joint name="caster_back_right_joint" type="fixed">
        <parent link="base_link" />
        <child link="caster_back_right_link" />
        <origin rpy="-1.570796326795 0 0" xyz="-0.177 -0.064 -0.0025" />
    </joint>
    <link name="caster_back_right_link">
        <visual>
            <origin rpy="0 0 0" xyz="0 0 0" />
            <geometry>
                <mesh filename="package://jupiterobot2_description/meshes/wheels/caster.stl" scale="0.001 0.001 0.001" />
            </geometry>
            <material name="Grey" />
        </visual>
        <collision>
            <origin rpy="0 0 0" xyz="0 0 0" />
            <geometry>
                <sphere radius="0.0125" />
            </geometry>
        </collision>
        <inertial>
            <origin xyz="0 0 0" rpy="0 0 0" />
            <mass value="0.065" />
            <!--2/5*m*r^2-->
            <inertia ixx="4.0625e-06" ixy="0.0" ixz="0.0" iyy="4.0625e-06" iyz="0.0" izz="4.0625e-06" />
        </inertial>
    </link>
    <joint name="caster_back_left_joint" type="fixed">
        <parent link="base_link" />
        <child link="caster_back_left_link" />
        <origin rpy="-1.570796326795 0 0" xyz="-0.177 0.064 -0.0025" />
    </joint>
    <link name="caster_back_left_link">
        <visual>
            <origin rpy="0 0 0" xyz="0 0 0" />
            <geometry>
                <mesh filename="package://jupiterobot2_description/meshes/wheels/caster.stl" scale="0.001 0.001 0.001" />
            </geometry>
            <material name="Grey" />
        </visual>
        <collision>
            <origin rpy="0 0 0" xyz="0 0 0" />
            <geometry>
                <sphere radius="0.0125" />
            </geometry>
        </collision>
        <inertial>
            <origin xyz="0 0 0" rpy="0 0 0" />
            <mass value="0.065" />
            <!--2/5*m*r^2-->
            <inertia ixx="4.0625e-06" ixy="0.0" ixz="0.0" iyy="4.0625e-06" iyz="0.0" izz="4.0625e-06" />
        </inertial>
    </link>
    <joint name="imu_joint" type="fixed">
        <parent link="base_link" />
        <child link="imu_link" />
        <origin rpy="3.14159265359 0 0" xyz="-0.091 -0.1055 0.0535" />
    </joint>
    <link name="imu_link" />
    <!-- base link for stacks -->
    <joint name="stack_joint" type="fixed">
        <parent link="base_link" />
        <child link="stack_link" />
        <origin rpy="0 0 0" xyz="-0.089 0 0" />
    </joint>
    <link name="stack_link" />
    <joint name="pole_60_0_joint" type="fixed">
        <parent link="stack_link" />
        <child link="pole_60_0_link" />
        <origin rpy="0 0 0" xyz="0.06 0.116 0.108" />
    </joint>
    <link name="pole_60_0_link">
        <visual>
            <origin rpy="0 0 0" xyz="0 0 0" />
            <geometry>
                <mesh filename="package://jupiterobot2_description/meshes/stacks/pole_60.stl" scale="0.001 0.001 0.001" />
            </geometry>
            <material name="Grey" />
        </visual>
        <collision>
            <origin rpy="0 0 0" xyz="0 0 0" />
            <geometry>
                <cylinder length="0.06" radius="0.005" />
            </geometry>
        </collision>
        <inertial>
            <origin xyz="0 0 0" rpy="0 0 0" />
            <mass value="0.0108" />
            <inertia ixx="3.3075e-06" ixy="0.0" ixz="0.0" iyy="3.3075e-06" iyz="0.0" izz="1.35e-07" />
        </inertial>
    </link>
    <joint name="pole_60_1_joint" type="fixed">
        <parent link="stack_link" />
        <child link="pole_60_1_link" />
        <origin rpy="0 0 0" xyz="-0.06 0.116 0.108" />
    </joint>
    <link name="pole_60_1_link">
        <visual>
            <origin rpy="0 0 0" xyz="0 0 0" />
            <geometry>
                <mesh filename="package://jupiterobot2_description/meshes/stacks/pole_60.stl" scale="0.001 0.001 0.001" />
            </geometry>
            <material name="Grey" />
        </visual>
        <collision>
            <origin rpy="0 0 0" xyz="0 0 0" />
            <geometry>
                <cylinder length="0.06" radius="0.005" />
            </geometry>
        </collision>
        <inertial>
            <origin xyz="0 0 0" rpy="0 0 0" />
            <mass value="0.0108" />
            <inertia ixx="3.3075e-06" ixy="0.0" ixz="0.0" iyy="3.3075e-06" iyz="0.0" izz="1.35e-07" />
        </inertial>
    </link>
    <joint name="pole_60_2_joint" type="fixed">
        <parent link="stack_link" />
        <child link="pole_60_2_link" />
        <origin rpy="0 0 0" xyz="-0.06 -0.116 0.108" />
    </joint>
    <link name="pole_60_2_link">
        <visual>
            <origin rpy="0 0 0" xyz="0 0 0" />
            <geometry>
                <mesh filename="package://jupiterobot2_description/meshes/stacks/pole_60.stl" scale="0.001 0.001 0.001" />
            </geometry>
            <material name="Grey" />
        </visual>
        <collision>
            <origin rpy="0 0 0" xyz="0 0 0" />
            <geometry>
                <cylinder length="0.06" radius="0.005" />
            </geometry>
        </collision>
        <inertial>
            <origin xyz="0 0 0" rpy="0 0 0" />
            <mass value="0.0108" />
            <inertia ixx="3.3075e-06" ixy="0.0" ixz="0.0" iyy="3.3075e-06" iyz="0.0" izz="1.35e-07" />
        </inertial>
    </link>
    <joint name="pole_60_3_joint" type="fixed">
        <parent link="stack_link" />
        <child link="pole_60_3_link" />
        <origin rpy="0 0 0" xyz="0.06 -0.116 0.108" />
    </joint>
    <link name="pole_60_3_link">
        <visual>
            <origin rpy="0 0 0" xyz="0 0 0" />
            <geometry>
                <mesh filename="package://jupiterobot2_description/meshes/stacks/pole_60.stl" scale="0.001 0.001 0.001" />
            </geometry>
            <material name="Grey" />
        </visual>
        <collision>
            <origin rpy="0 0 0" xyz="0 0 0" />
            <geometry>
                <cylinder length="0.06" radius="0.005" />
            </geometry>
        </collision>
        <inertial>
            <origin xyz="0 0 0" rpy="0 0 0" />
            <mass value="0.0108" />
            <inertia ixx="3.3075e-06" ixy="0.0" ixz="0.0" iyy="3.3075e-06" iyz="0.0" izz="1.35e-07" />
        </inertial>
    </link>
    <joint name="plate_1_joint" type="fixed">
        <parent link="stack_link" />
        <child link="plate_1_link" />
        <origin rpy="0 0 0" xyz="0 0 0.138" />
    </joint>
    <link name="plate_1_link">
        <visual>
            <origin rpy="0 0 0" xyz="0 0 0" />
            <geometry>
                <mesh filename="package://jupiterobot2_description/meshes/stacks/plate_1.stl" scale="0.001 0.001 0.001" />
            </geometry>
            <material name="Black" />
        </visual>
        <collision>
            <origin rpy="0 0 0" xyz="0 0 0.003" />
            <geometry>
                <cylinder length="0.006" radius="0.165" />
            </geometry>
        </collision>
        <inertial>
            <origin xyz="0 0 0.003" rpy="0 0 0" />
            <mass value="0.45" />
            <inertia ixx="0.0030641625" ixy="0.0" ixz="0.0" iyy="0.0030641625" iyz="0.0" izz="0.006125625" />
        </inertial>
    </link>
    <joint name="arrow_joint" type="fixed">
        <parent link="plate_1_link" />
        <child link="arrow_link" />
        <origin rpy="0 0 0" xyz="0 0.036 0.006" />
    </joint>
    <link name="arrow_link">
        <visual>
            <origin rpy="0 0 0" xyz="0 0 0" />
            <geometry>
                <mesh filename="package://jupiterobot2_description/meshes/stacks/arrow.stl" scale="0.001 0.001 0.001" />
            </geometry>
            <material name="White" />
        </visual>
        <collision>
            <origin rpy="0 0 0" xyz="0 0 0" />
            <geometry>
                <mesh filename="package://jupiterobot2_description/meshes/stacks/arrow.stl" scale="0.001 0.001 0.001" />
            </geometry>
        </collision>
        <inertial>
            <mass value="0.1" />
            <origin xyz="0 0 0" rpy="0 0 0" />
            <inertia ixx="0.03" iyy="0.03" izz="0.03" ixy="0.0" ixz="0.0" iyz="0.0" />
        </inertial>
    </link>
    <joint name="scan_joint" type="fixed">
        <parent link="plate_1_link" />
        <child link="base_scan" />
        <origin rpy="0 3.14159265359 0" xyz="0 0 -0.04615" />
    </joint>
    <link name="base_scan">
        <visual>
            <origin rpy="0 0 0" xyz="0 0 0" />
            <geometry>
                <mesh filename="package://jupiterobot2_description/meshes/sensors/rplidar.dae" scale="1 1 1" />
            </geometry>
        </visual>
        <collision>
            <origin rpy="0 0 0" xyz="0.01 0 -0.016" />
            <geometry>
                <cylinder length="0.05" radius="0.05" />
            </geometry>
        </collision>
        <inertial>
            <origin xyz="0.01 0 -0.016" rpy="0 0 0" />
            <mass value="0.188" />
            <inertia ixx="0.0001567" ixy="0.0" ixz="0.0" iyy="0.0001567" iyz="0.0" izz="0.000235" />
        </inertial>
    </link>
    <!-- arm_mount -->
    <joint name="arm_mount_joint" type="fixed">
        <parent link="plate_1_link" />
        <child link="arm_mount_link" />
        <origin rpy="0 0 0" xyz="0.134 0 0.006" />
    </joint>
    <link name="arm_mount_link">
        <visual>
            <origin rpy="0 0 0" xyz="0 0 0" />
            <geometry>
                <mesh filename="package://jupiterobot2_description/meshes/stacks/arm_mount.stl" scale="0.001 0.001 0.001" />
            </geometry>
            <material name="DarkGrey" />
        </visual>
        <collision>
            <origin rpy="0 0 0" xyz="-0.013 0 0.0015" />
            <geometry>
                <box size="0.056 0.064 0.003" />
            </geometry>
        </collision>
        <inertial>
            <origin rpy="0 0 0" xyz="-0.013 0 0.0015" />
            <mass value="0.0071" />
            <inertia ixx="2.42879167e-06" ixy="0" ixz="0" iyy="1.86079167e-06" iyz="0" izz="4.278933e-06" />
        </inertial>
    </link>
    <joint name="cables_joint" type="fixed">
        <parent link="plate_1_link" />
        <child link="cables_link" />
        <origin rpy="1.570796326795 0 1.570796326795" xyz="-0.13 0 0" />
    </joint>
    <link name="cables_link">
        <visual>
            <origin rpy="0 0 0" xyz="0 0 0" />
            <geometry>
                <mesh filename="package://jupiterobot2_description/meshes/stacks/cables.stl" scale="0.001 0.001 0.001" />
            </geometry>
            <material name="FlatBlack" />
        </visual>
        <collision>
            <origin rpy="0 0 0" xyz="0 0 0" />
            <geometry>
                <mesh filename="package://jupiterobot2_description/meshes/stacks/cables.stl" scale="0.001 0.001 0.001" />
            </geometry>
        </collision>
        <inertial>
            <mass value="0.1" />
            <origin xyz="0 0 0" rpy="0 0 0" />
            <inertia ixx="0.03" iyy="0.03" izz="0.03" ixy="0.0" ixz="0.0" iyz="0.0" />
        </inertial>
    </link>
    <joint name="pole_200_0_joint" type="fixed">
        <parent link="plate_1_link" />
        <child link="pole_200_0_link" />
        <origin rpy="0 0 0" xyz="-0.05 0.12817 0.106" />
    </joint>
    <link name="pole_200_0_link">
        <visual>
            <origin rpy="0 0 0" xyz="0 0 0" />
            <geometry>
                <mesh filename="package://jupiterobot2_description/meshes/stacks/pole_200.stl" scale="0.001 0.001 0.001" />
            </geometry>
            <material name="Grey" />
        </visual>
        <collision>
            <origin rpy="0 0 0" xyz="0 0 0" />
            <geometry>
                <cylinder length="0.2" radius="0.005" />
            </geometry>
        </collision>
        <inertial>
            <origin xyz="0 0 0" rpy="0 0 0" />
            <mass value="0.0361" />
            <inertia ixx="0.000120559" ixy="0.0" ixz="0.0" iyy="0.000120559" iyz="0.0" izz="4.5125e-07" />
        </inertial>
    </link>
    <joint name="pole_200_1_joint" type="fixed">
        <parent link="plate_1_link" />
        <child link="pole_200_1_link" />
        <origin rpy="0 0 0" xyz="-0.10629 0.09567 0.106" />
    </joint>
    <link name="pole_200_1_link">
        <visual>
            <origin rpy="0 0 0" xyz="0 0 0" />
            <geometry>
                <mesh filename="package://jupiterobot2_description/meshes/stacks/pole_200.stl" scale="0.001 0.001 0.001" />
            </geometry>
            <material name="Grey" />
        </visual>
        <collision>
            <origin rpy="0 0 0" xyz="0 0 0" />
            <geometry>
                <cylinder length="0.2" radius="0.005" />
            </geometry>
        </collision>
        <inertial>
            <origin xyz="0 0 0" rpy="0 0 0" />
            <mass value="0.0361" />
            <inertia ixx="0.000120559" ixy="0.0" ixz="0.0" iyy="0.000120559" iyz="0.0" izz="4.5125e-07" />
        </inertial>
    </link>
    <joint name="pole_200_2_joint" type="fixed">
        <parent link="plate_1_link" />
        <child link="pole_200_2_link" />
        <origin rpy="0 0 0" xyz="-0.10629 -0.09567 0.106" />
    </joint>
    <link name="pole_200_2_link">
        <visual>
            <origin rpy="0 0 0" xyz="0 0 0" />
            <geometry>
                <mesh filename="package://jupiterobot2_description/meshes/stacks/pole_200.stl" scale="0.001 0.001 0.001" />
            </geometry>
            <material name="Grey" />
        </visual>
        <collision>
            <origin rpy="0 0 0" xyz="0 0 0" />
            <geometry>
                <cylinder length="0.2" radius="0.005" />
            </geometry>
        </collision>
        <inertial>
            <origin xyz="0 0 0" rpy="0 0 0" />
            <mass value="0.0361" />
            <inertia ixx="0.000120559" ixy="0.0" ixz="0.0" iyy="0.000120559" iyz="0.0" izz="4.5125e-07" />
        </inertial>
    </link>
    <joint name="pole_200_3_joint" type="fixed">
        <parent link="plate_1_link" />
        <child link="pole_200_3_link" />
        <origin rpy="0 0 0" xyz="-0.05 -0.12817 0.106" />
    </joint>
    <link name="pole_200_3_link">
        <visual>
            <origin rpy="0 0 0" xyz="0 0 0" />
            <geometry>
                <mesh filename="package://jupiterobot2_description/meshes/stacks/pole_200.stl" scale="0.001 0.001 0.001" />
            </geometry>
            <material name="Grey" />
        </visual>
        <collision>
            <origin rpy="0 0 0" xyz="0 0 0" />
            <geometry>
                <cylinder length="0.2" radius="0.005" />
            </geometry>
        </collision>
        <inertial>
            <origin xyz="0 0 0" rpy="0 0 0" />
            <mass value="0.0361" />
            <inertia ixx="0.000120559" ixy="0.0" ixz="0.0" iyy="0.000120559" iyz="0.0" izz="4.5125e-07" />
        </inertial>
    </link>
    <joint name="pipe_200_joint" type="fixed">
        <parent link="plate_1_link" />
        <child link="pipe_200_link" />
        <origin rpy="0 0 0" xyz="-0.13 0 0.106" />
    </joint>
    <link name="pipe_200_link">
        <visual>
            <origin rpy="0 0 0" xyz="0 0 0" />
            <geometry>
                <mesh filename="package://jupiterobot2_description/meshes/stacks/pipe_200.stl" scale="0.001 0.001 0.001" />
            </geometry>
            <material name="FlatBlack" />
        </visual>
        <collision>
            <origin rpy="0 0 0" xyz="0 0 0" />
            <geometry>
                <cylinder length="0.2" radius="0.0125" />
            </geometry>
        </collision>
        <inertial>
            <origin xyz="0 0 0" rpy="0 0 0" />
            <mass value="0.04" />
            <inertia ixx="0.000134896" ixy="0.0" ixz="0.0" iyy="0.000134896" iyz="0.0" izz="3.125e-06" />
        </inertial>
    </link>
    <joint name="plate_3_joint" type="fixed">
        <parent link="plate_1_link" />
        <child link="plate_3_link" />
        <origin rpy="0 0 0" xyz="0 0 0.206" />
    </joint>
    <link name="plate_3_link">
        <visual>
            <origin rpy="0 0 0" xyz="0 0 0" />
            <geometry>
                <mesh filename="package://jupiterobot2_description/meshes/stacks/plate_3.stl" scale="0.001 0.001 0.001" />
            </geometry>
            <material name="Black" />
        </visual>
        <collision>
            <origin rpy="0 0 0" xyz="0 0 0" />
            <geometry>
                <mesh filename="package://jupiterobot2_description/meshes/stacks/plate_3.stl" scale="0.001 0.001 0.001" />
            </geometry>
        </collision>
        <inertial>
            <origin xyz="-0.08 0 0.003" rpy="0 0 0" />
            <!--0.16*0.27*0.006-->
            <mass value="0.152" />
            <inertia ixx="0.000923856" ixy="0.0" ixz="0.0" iyy="0.0003247227" iyz="0.0" izz="0.001247667" />
        </inertial>
    </link>
    <joint name="mic_joint" type="fixed">
        <parent link="plate_3_link" />
        <child link="mic_link" />
        <origin rpy="0 0 0" xyz="0 -0.13466 0.006" />
    </joint>
    <link name="mic_link">
        <visual>
            <origin rpy="0 0 0" xyz="0 0 0" />
            <geometry>
                <mesh filename="package://jupiterobot2_description/meshes/stacks/microphone.stl" scale="0.001 0.001 0.001" />
            </geometry>
            <material name="DarkGrey" />
        </visual>
        <collision>
            <origin rpy="0 0 0" xyz="0 0 0" />
            <geometry>
                <mesh filename="package://jupiterobot2_description/meshes/stacks/microphone.stl" scale="0.001 0.001 0.001" />
            </geometry>
        </collision>
        <inertial>
            <origin xyz="-0.02 0 0.03" rpy="0 0 0" />
            <!--0.04*0.03*0.06-->
            <mass value="0.21" />
            <inertia ixx="7.875e-05" ixy="0.0" ixz="0.0" iyy="9.1e-05" iyz="0.0" izz="4.375e-05" />
        </inertial>
    </link>
    <joint name="estop_joint" type="fixed">
        <parent link="plate_3_link" />
        <child link="estop_link" />
        <origin rpy="0 0 0" xyz="0 0.13466 -0.0381" />
    </joint>
    <link name="estop_link">
        <visual>
            <origin rpy="0 0 0" xyz="0 0 0" />
            <geometry>
                <mesh filename="package://jupiterobot2_description/meshes/stacks/e_stop.stl" scale="0.001 0.001 0.001" />
            </geometry>
            <material name="DarkGrey" />
        </visual>
        <collision>
            <origin rpy="0 0 0" xyz="0 0 0" />
            <geometry>
                <mesh filename="package://jupiterobot2_description/meshes/stacks/e_stop.stl" scale="0.001 0.001 0.001" />
            </geometry>
        </collision>
        <inertial>
            <origin xyz="0 0 0.038" rpy="0 0 0" />
            <!--R0.018*0.0685-->
            <mass value="0.0763" />
            <inertia ixx="3.60151896e-05" ixy="0.0" ixz="0.0" iyy="3.60151896e-05" iyz="0.0" izz="1.23606e-05" />
        </inertial>
    </link>
    <joint name="pole_80_0_joint" type="fixed">
        <parent link="plate_3_link" />
        <child link="pole_80_0_link" />
        <origin rpy="0 0 0" xyz="-0.115 0.05 0.046" />
    </joint>
    <link name="pole_80_0_link">
        <visual>
            <origin rpy="0 0 0" xyz="0 0 0" />
            <geometry>
                <mesh filename="package://jupiterobot2_description/meshes/stacks/pole_80.stl" scale="0.001 0.001 0.001" />
            </geometry>
            <material name="Grey" />
        </visual>
        <collision>
            <origin rpy="0 0 0" xyz="0 0 0" />
            <geometry>
                <cylinder length="0.08" radius="0.005" />
            </geometry>
        </collision>
        <inertial>
            <origin xyz="0 0 0" rpy="0 0 0" />
            <mass value="0.0145" />
            <inertia ixx="7.82395833e-06" ixy="0.0" ixz="0.0" iyy="7.82395833e-06" iyz="0.0" izz="1.8125e-07" />
        </inertial>
    </link>
    <joint name="pole_80_1_joint" type="fixed">
        <parent link="plate_3_link" />
        <child link="pole_80_1_link" />
        <origin rpy="0 0 0" xyz="-0.115 -0.05 0.046" />
    </joint>
    <link name="pole_80_1_link">
        <visual>
            <origin rpy="0 0 0" xyz="0 0 0" />
            <geometry>
                <mesh filename="package://jupiterobot2_description/meshes/stacks/pole_80.stl" scale="0.001 0.001 0.001" />
            </geometry>
            <material name="Grey" />
        </visual>
        <collision>
            <origin rpy="0 0 0" xyz="0 0 0" />
            <geometry>
                <cylinder length="0.08" radius="0.005" />
            </geometry>
        </collision>
        <inertial>
            <origin xyz="0 0 0" rpy="0 0 0" />
            <mass value="0.0145" />
            <inertia ixx="7.82395833e-06" ixy="0.0" ixz="0.0" iyy="7.82395833e-06" iyz="0.0" izz="1.8125e-07" />
        </inertial>
    </link>
    <joint name="monitor_frame_1_joint" type="fixed">
        <parent link="plate_3_link" />
        <child link="monitor_frame_1_link" />
        <origin rpy="0 0 0" xyz="-0.115 0 0.0935" />
    </joint>
    <link name="monitor_frame_1_link">
        <visual>
            <origin rpy="0 0 0" xyz="0 0 0" />
            <geometry>
                <mesh filename="package://jupiterobot2_description/meshes/stacks/monitor_frame.stl" scale="0.001 0.001 0.001" />
            </geometry>
            <material name="DarkGrey" />
        </visual>
        <collision>
            <origin rpy="0 0 0" xyz="0 0 0" />
            <geometry>
                <mesh filename="package://jupiterobot2_description/meshes/stacks/monitor_frame.stl" scale="0.001 0.001 0.001" />
            </geometry>
        </collision>
        <inertial>
            <origin xyz="0 0 0" rpy="0 0 0" />
            <!--0.012*0.112*0.015-->
            <mass value="0.0136" />
            <inertia ixx="1.4471533e-05" ixy="0.0" ixz="0.0" iyy="4.182e-07" iyz="0.0" izz="1.4379733e-05" />
        </inertial>
    </link>
    <joint name="pole_60_4_joint" type="fixed">
        <parent link="pole_80_0_link" />
        <child link="pole_60_4_link" />
        <origin rpy="0 0 0" xyz="0 0 0.085" />
    </joint>
    <link name="pole_60_4_link">
        <visual>
            <origin rpy="0 0 0" xyz="0 0 0" />
            <geometry>
                <mesh filename="package://jupiterobot2_description/meshes/stacks/pole_60.stl" scale="0.001 0.001 0.001" />
            </geometry>
            <material name="Grey" />
        </visual>
        <collision>
            <origin rpy="0 0 0" xyz="0 0 0" />
            <geometry>
                <cylinder length="0.06" radius="0.005" />
            </geometry>
        </collision>
        <inertial>
            <origin xyz="0 0 0" rpy="0 0 0" />
            <mass value="0.0108" />
            <inertia ixx="3.3075e-06" ixy="0.0" ixz="0.0" iyy="3.3075e-06" iyz="0.0" izz="1.35e-07" />
        </inertial>
    </link>
    <joint name="pole_60_5_joint" type="fixed">
        <parent link="pole_80_1_link" />
        <child link="pole_60_5_link" />
        <origin rpy="0 0 0" xyz="0 0 0.085" />
    </joint>
    <link name="pole_60_5_link">
        <visual>
            <origin rpy="0 0 0" xyz="0 0 0" />
            <geometry>
                <mesh filename="package://jupiterobot2_description/meshes/stacks/pole_60.stl" scale="0.001 0.001 0.001" />
            </geometry>
            <material name="Grey" />
        </visual>
        <collision>
            <origin rpy="0 0 0" xyz="0 0 0" />
            <geometry>
                <cylinder length="0.06" radius="0.005" />
            </geometry>
        </collision>
        <inertial>
            <origin xyz="0 0 0" rpy="0 0 0" />
            <mass value="0.0108" />
            <inertia ixx="3.3075e-06" ixy="0.0" ixz="0.0" iyy="3.3075e-06" iyz="0.0" izz="1.35e-07" />
        </inertial>
    </link>
    <joint name="monitor_frame_2_joint" type="fixed">
        <parent link="monitor_frame_1_link" />
        <child link="monitor_frame_2_link" />
        <origin rpy="0 0 0" xyz="0 0 0.075" />
    </joint>
    <link name="monitor_frame_2_link">
        <visual>
            <origin rpy="0 0 0" xyz="0 0 0" />
            <geometry>
                <mesh filename="package://jupiterobot2_description/meshes/stacks/monitor_frame.stl" scale="0.001 0.001 0.001" />
            </geometry>
            <material name="DarkGrey" />
        </visual>
        <collision>
            <origin rpy="0 0 0" xyz="0 0 0" />
            <geometry>
                <mesh filename="package://jupiterobot2_description/meshes/stacks/monitor_frame.stl" scale="0.001 0.001 0.001" />
            </geometry>
        </collision>
        <inertial>
            <origin xyz="0 0 0" rpy="0 0 0" />
            <!--0.012*0.112*0.015-->
            <mass value="0.0136" />
            <inertia ixx="1.4471533e-05" ixy="0.0" ixz="0.0" iyy="4.182e-07" iyz="0.0" izz="1.4379733e-05" />
        </inertial>
    </link>
    <joint name="pole_40_0_joint" type="fixed">
        <parent link="pole_60_4_link" />
        <child link="pole_40_0_link" />
        <origin rpy="0 0 0" xyz="0 0 0.065" />
    </joint>
    <link name="pole_40_0_link">
        <visual>
            <origin rpy="0 0 0" xyz="0 0 0" />
            <geometry>
                <mesh filename="package://jupiterobot2_description/meshes/stacks/pole_40.stl" scale="0.001 0.001 0.001" />
            </geometry>
            <material name="Grey" />
        </visual>
        <collision>
            <origin rpy="0 0 0" xyz="0 0 0" />
            <geometry>
                <cylinder length="0.04" radius="0.005" />
            </geometry>
        </collision>
        <inertial>
            <origin xyz="0 0 0" rpy="0 0 0" />
            <mass value="0.007" />
            <inertia ixx="9.91041667e-07" ixy="0.0" ixz="0.0" iyy="9.91041667e-07" iyz="0.0" izz="8.875e-08" />
        </inertial>
    </link>
    <joint name="pole_40_1_joint" type="fixed">
        <parent link="pole_60_5_link" />
        <child link="pole_40_1_link" />
        <origin rpy="0 0 0" xyz="0 0 0.065" />
    </joint>
    <link name="pole_40_1_link">
        <visual>
            <origin rpy="0 0 0" xyz="0 0 0" />
            <geometry>
                <mesh filename="package://jupiterobot2_description/meshes/stacks/pole_40.stl" scale="0.001 0.001 0.001" />
            </geometry>
            <material name="Grey" />
        </visual>
        <collision>
            <origin rpy="0 0 0" xyz="0 0 0" />
            <geometry>
                <cylinder length="0.04" radius="0.005" />
            </geometry>
        </collision>
        <inertial>
            <origin xyz="0 0 0" rpy="0 0 0" />
            <mass value="0.007" />
            <inertia ixx="9.91041667e-07" ixy="0.0" ixz="0.0" iyy="9.91041667e-07" iyz="0.0" izz="8.875e-08" />
        </inertial>
    </link>
    <!-- head_mount -->
    <joint name="head_mount_joint" type="fixed">
        <parent link="monitor_frame_2_link" />
        <child link="head_mount_link" />
        <origin rpy="0 0 0" xyz="0 0 0.0475" />
    </joint>
    <link name="head_mount_link">
        <visual>
            <origin rpy="0 0 0" xyz="0 0 0" />
            <geometry>
                <mesh filename="package://jupiterobot2_description/meshes/stacks/head_mount.stl" scale="0.001 0.001 0.001" />
            </geometry>
            <material name="DarkGrey" />
        </visual>
        <collision>
            <origin rpy="0 0 0" xyz="0 0 0.012" />
            <geometry>
                <box size="0.05 0.13 0.024" />
            </geometry>
        </collision>
        <inertial>
            <origin rpy="0 0 0" xyz="0 0 0.005" />
            <!--0.04*0.12*0.01-->
            <mass value="0.0205" />
            <inertia ixx="2.4770833e-05" ixy="0" ixz="0" iyy="2.9041667e-06" iyz="0" izz="2.7333e-05" />
        </inertial>
    </link>
    <joint name="monitor_joint" type="fixed">
        <parent link="monitor_frame_2_link" />
        <child link="monitor_link" />
        <origin rpy="0 0 0" xyz="0.0405 0 -0.046" />
    </joint>
    <link name="monitor_link">
        <visual>
            <origin rpy="0 0 0" xyz="0 0 0" />
            <geometry>
                <mesh filename="package://jupiterobot2_description/meshes/stacks/monitor.stl" scale="0.001 0.001 0.001" />
            </geometry>
            <material name="FlatBlack" />
        </visual>
        <collision>
            <origin rpy="0 0 0" xyz="0 0 0" />
            <geometry>
                <mesh filename="package://jupiterobot2_description/meshes/stacks/monitor.stl" scale="0.001 0.001 0.001" />
            </geometry>
        </collision>
        <inertial>
            <origin xyz="-0.013 0 0.005" rpy="0 0 0" />
            <!--0.026*0.2465*0.167-->
            <mass value="0.48" />
            <inertia ixx="0.00354605" ixy="0.0" ixz="0.0" iyy="0.0011426" iyz="0.0" izz="0.00245753" />
        </inertial>
    </link>
    <joint name="screen_joint" type="fixed">
        <parent link="monitor_link" />
        <child link="screen_link" />
        <origin rpy="0 0 0" xyz="-0.0025 0 0" />
    </joint>
    <link name="screen_link">
        <visual>
            <origin rpy="0 0 0" xyz="0 0 0" />
            <geometry>
                <mesh filename="package://jupiterobot2_description/meshes/stacks/screen.stl" scale="0.001 0.001 0.001" />
            </geometry>
            <material name="White" />
        </visual>
        <collision>
            <origin rpy="0 0 0" xyz="0 0 0" />
            <geometry>
                <mesh filename="package://jupiterobot2_description/meshes/stacks/screen.stl" scale="0.001 0.001 0.001" />
            </geometry>
        </collision>
        <inertial>
            <mass value="0.1" />
            <origin xyz="0 0 0" rpy="0 0 0" />
            <inertia ixx="0.03" iyy="0.03" izz="0.03" ixy="0.0" ixz="0.0" iyz="0.0" />
        </inertial>
    </link>
    <transmission name="trans_gripper_link_joint">
        <type>transmission_interface/SimpleTransmission</type>
        <joint name="gripper_link_joint">
            <hardwareInterface>hardware_interface/EffortJointInterface</hardwareInterface>
        </joint>
        <actuator name="gripper_link_joint_motor">
            <hardwareInterface>hardware_interface/EffortJointInterface</hardwareInterface>
            <mechanicalReduction>1</mechanicalReduction>
        </actuator>
    </transmission>
    <transmission name="trans_wheel_left_joint">
        <type>transmission_interface/SimpleTransmission</type>
        <joint name="wheel_left_joint">
            <hardwareInterface>hardware_interface/EffortJointInterface</hardwareInterface>
        </joint>
        <actuator name="wheel_left_joint_motor">
            <hardwareInterface>hardware_interface/EffortJointInterface</hardwareInterface>
            <mechanicalReduction>1</mechanicalReduction>
        </actuator>
    </transmission>
    <transmission name="trans_wheel_right_joint">
        <type>transmission_interface/SimpleTransmission</type>
        <joint name="wheel_right_joint">
            <hardwareInterface>hardware_interface/EffortJointInterface</hardwareInterface>
        </joint>
        <actuator name="wheel_right_joint_motor">
            <hardwareInterface>hardware_interface/EffortJointInterface</hardwareInterface>
            <mechanicalReduction>1</mechanicalReduction>
        </actuator>
    </transmission>
</robot>
